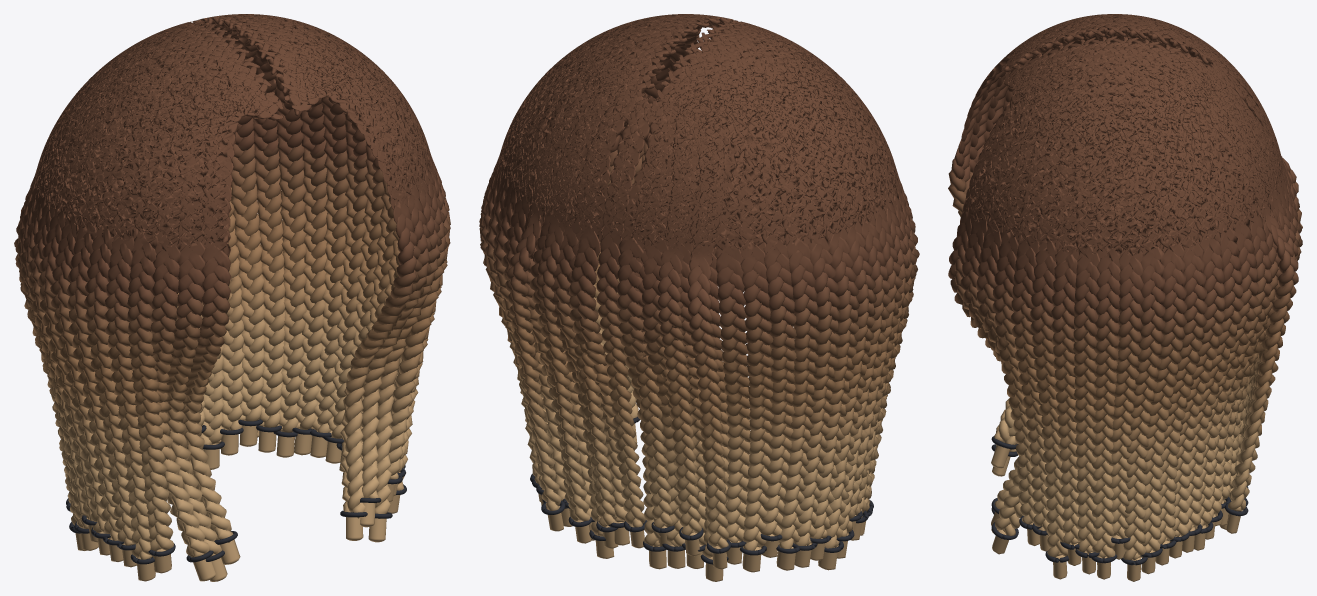
Rendered from Ombre-f68f257ad765253-hair.glb.
The picture shows the model from 3 angles, left to right: view 1: azimuth 30°, elevation 25°; view 2: azimuth 150°, elevation 25°; view 3: azimuth 270°, elevation 25°; orthographic projection. The views are drawn at different scales.
Visible parts, largest first — view 1: 226 hair / Hair / chestnut226.001, 226 hair / Hair / ties226.001; view 2: 226 hair / Hair / chestnut226.001, 226 hair / Hair / ties226.001; view 3: 226 hair / Hair / chestnut226.001, 226 hair / Hair / ties226.001.
Boxes of the visible parts, x1=… form: 226 hair / Hair / chestnut226.001: x1=14, y1=14, x2=450, y2=581; 226 hair / Hair / ties226.001: x1=66, y1=419, x2=406, y2=564; 226 hair / Hair / chestnut226.001: x1=479, y1=14, x2=919, y2=581; 226 hair / Hair / ties226.001: x1=530, y1=416, x2=873, y2=564; 226 hair / Hair / chestnut226.001: x1=948, y1=14, x2=1302, y2=581; 226 hair / Hair / ties226.001: x1=991, y1=436, x2=1248, y2=565.
Size of the model in its own units: 1.07 by 1.29 by 0.8592.
Materials: 2 (1 with a texture image).
